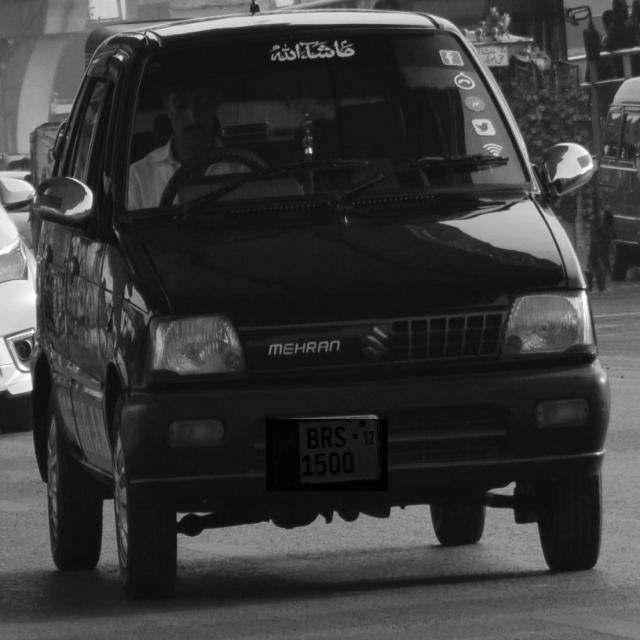number_plate: (266, 419, 388, 491)
